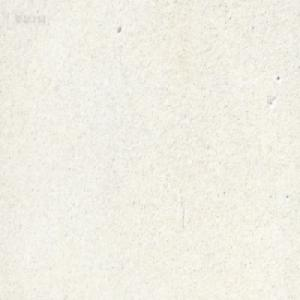Wrench: (174, 0, 180, 5)
